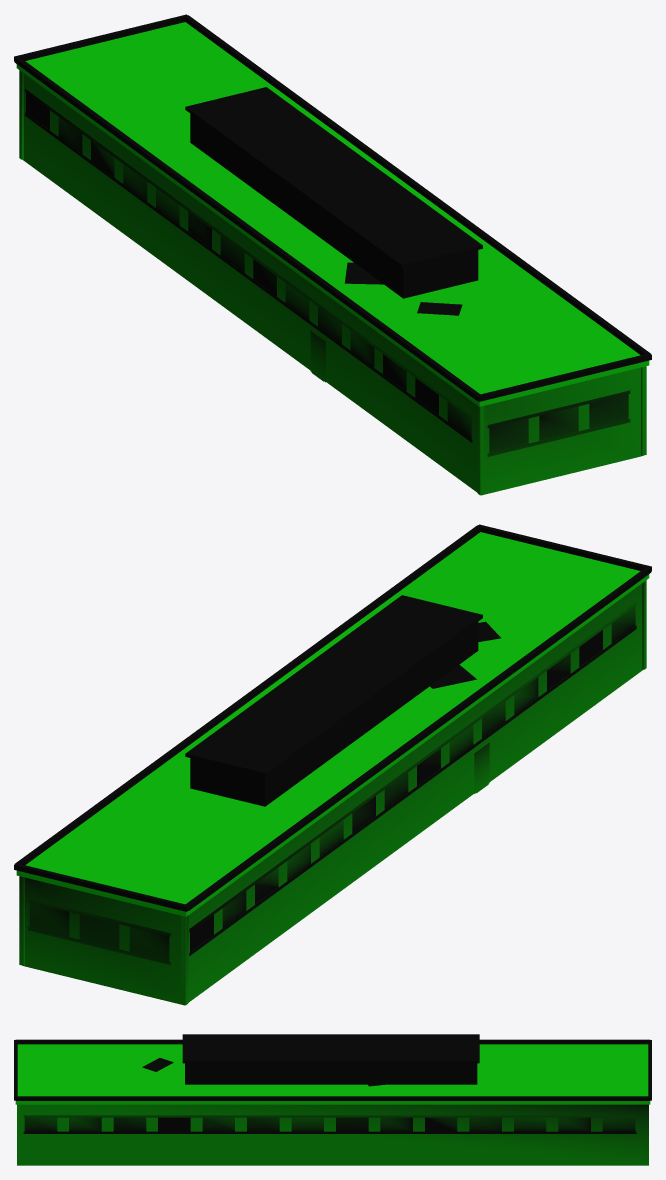
File: s_admin_wing.glb
The picture shows the model from 3 angles, top to bottom: view 1: azimuth 30°, elevation 25°; view 2: azimuth 150°, elevation 25°; view 3: azimuth 270°, elevation 25°; orthographic projection. The views are drawn at different scales.
Parts seen in each view (by area): view 1: lod0; view 2: lod0; view 3: lod0.
Part boxes in pixels (x1,y1,x2,y2): lod0: (14,14,651,495); lod0: (14,524,651,1005); lod0: (14,1034,651,1165).
Size of what is drawn, in the model's own units: 11.6 by 8.45 by 53.7.
